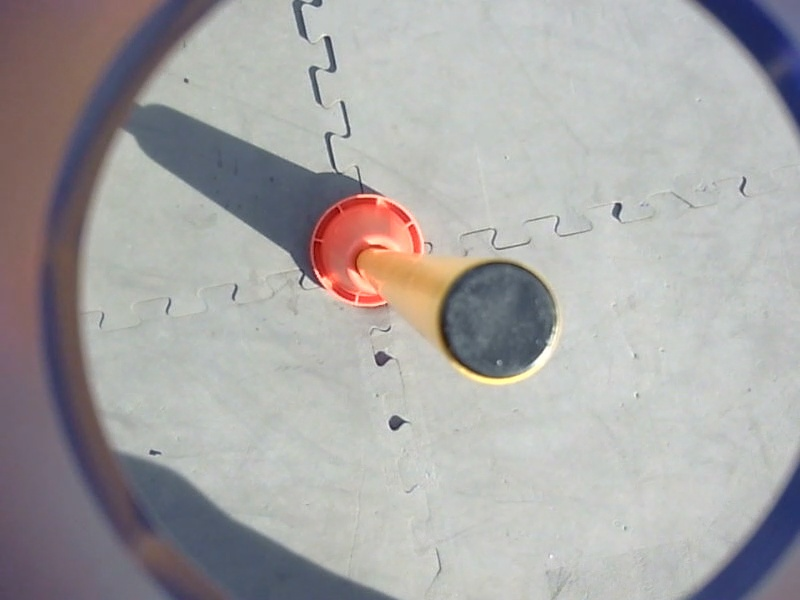tip: (429, 253, 566, 393)
